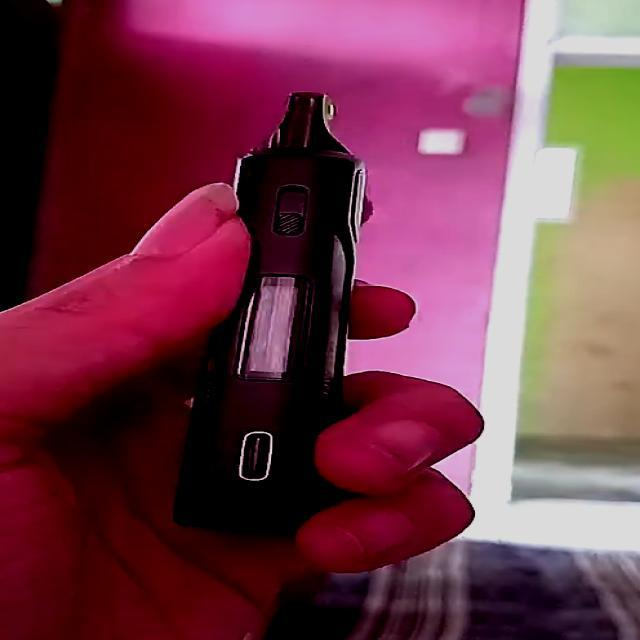Hazard: (163, 86, 370, 533)
